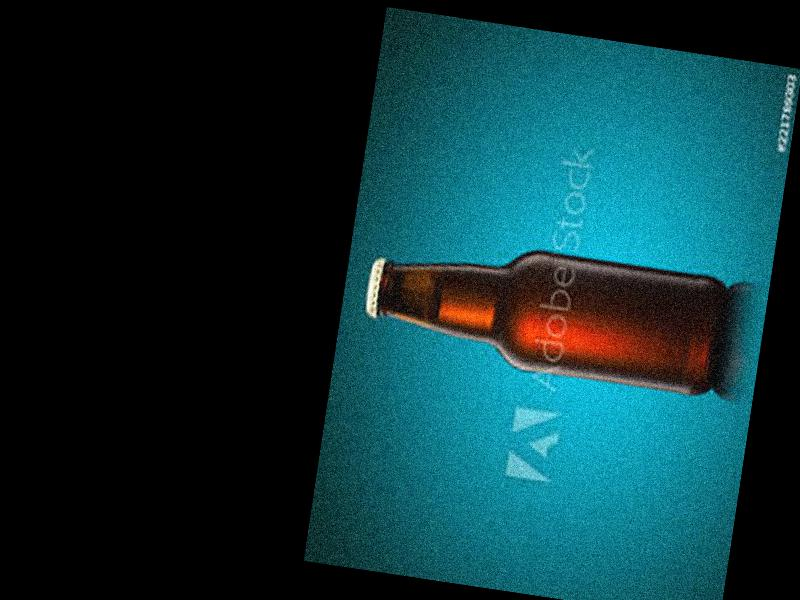Beer: (359, 224, 731, 397)
